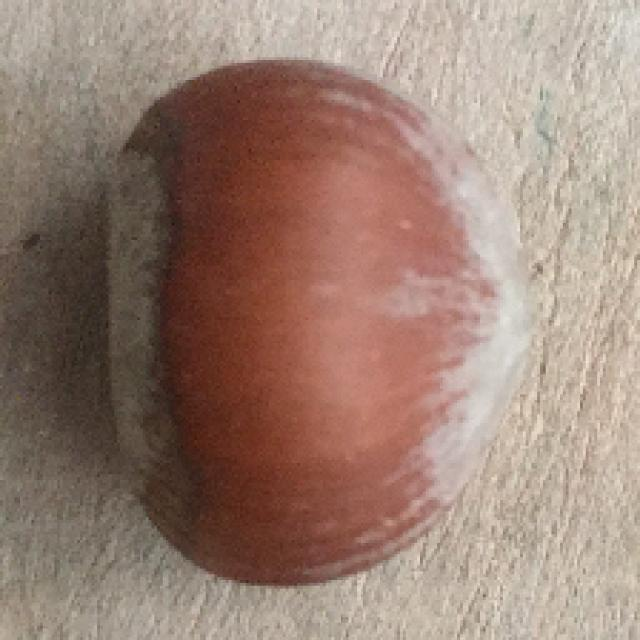qualityHazelnut: (75, 53, 535, 594)
